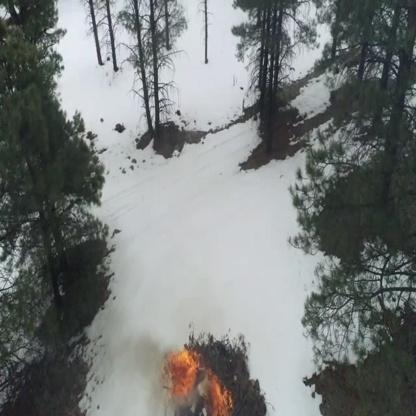Fire: (166, 352, 200, 394), (208, 377, 232, 416)
